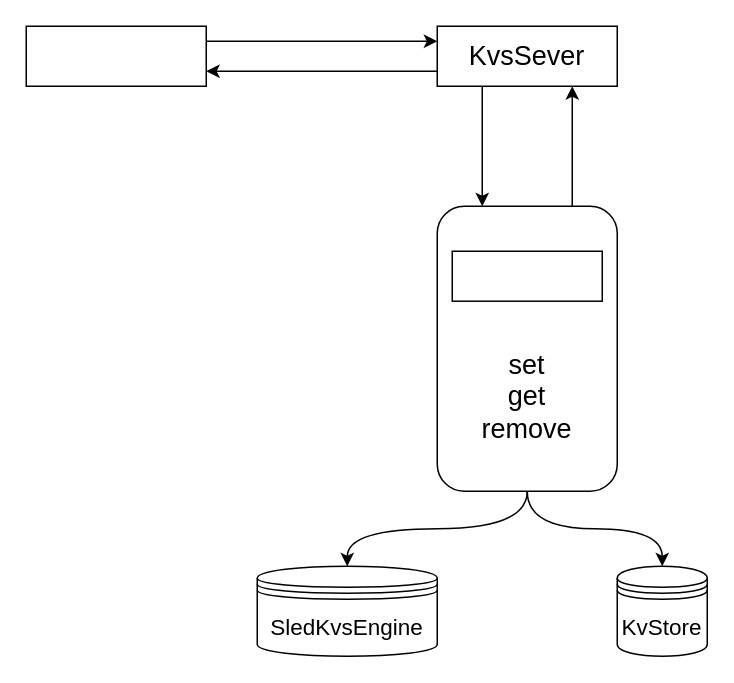
The diagram is 734 pixels wide and 683 high, and some of its shapes have lost their labels. Each missing label, with the centre of its shape:
KvsClient: the point at 115,55
KvsEngine: the point at 526,275
